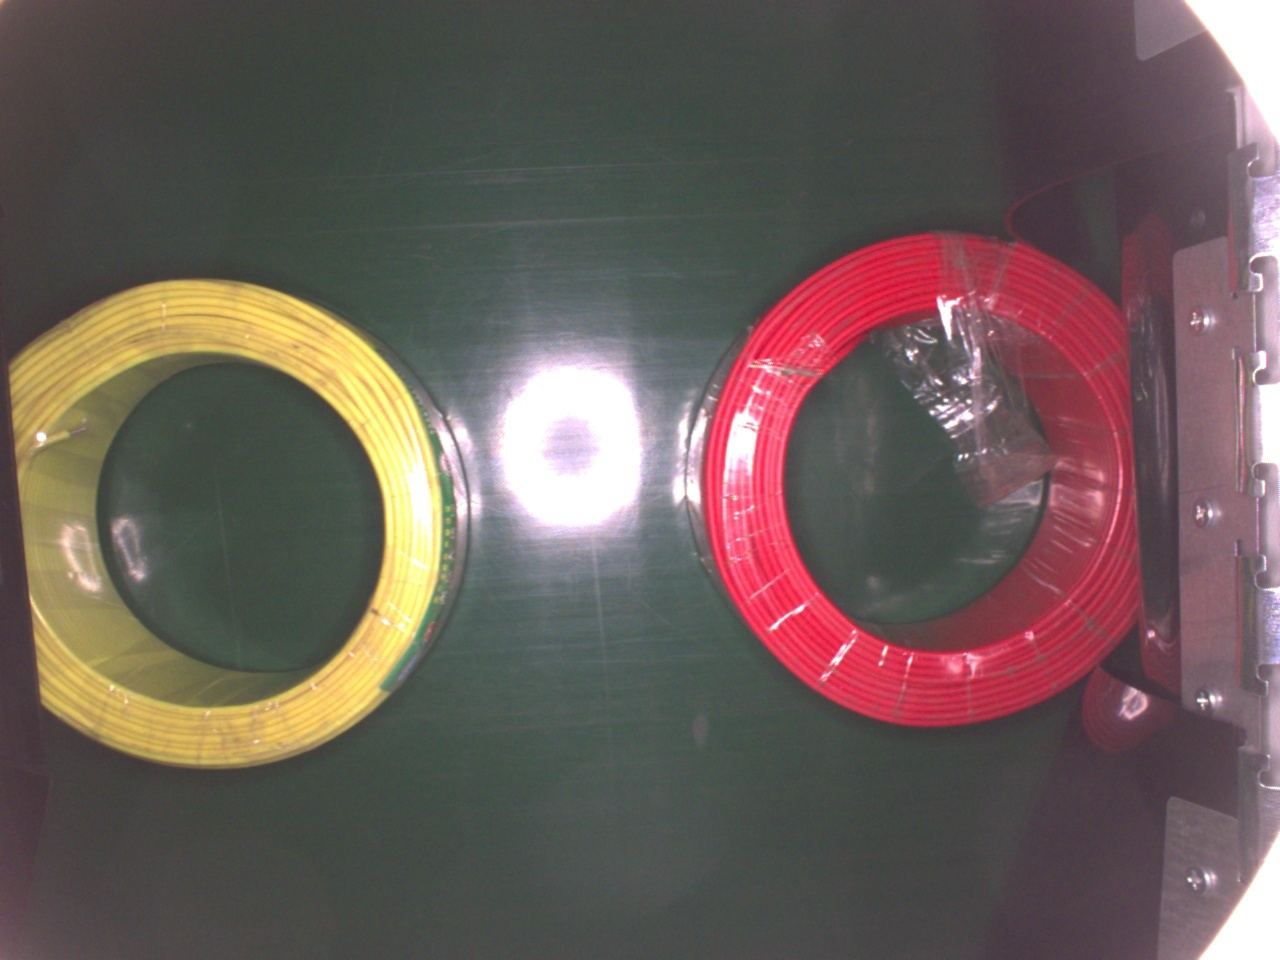red: (685, 229, 1141, 726)
yellow: (8, 272, 474, 771)
